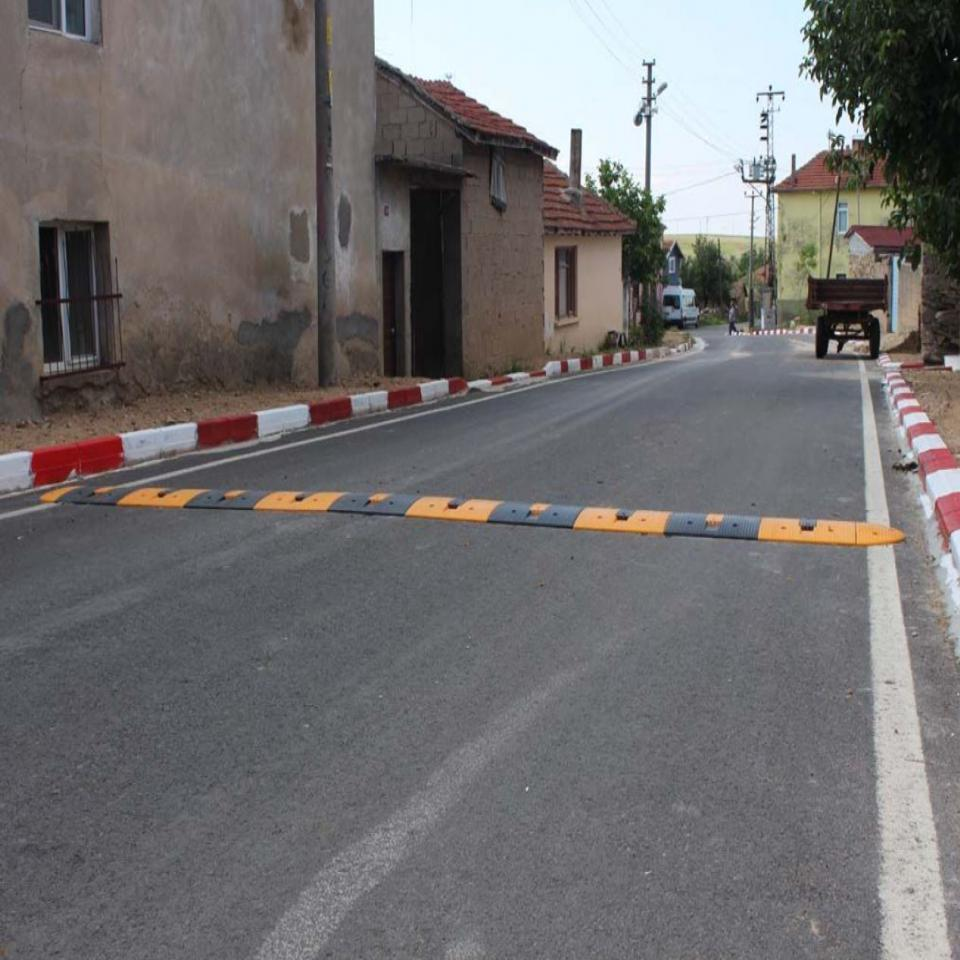speedbreaker: (64, 469, 893, 552)
